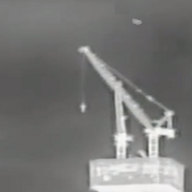Target: (131, 18, 142, 25)
